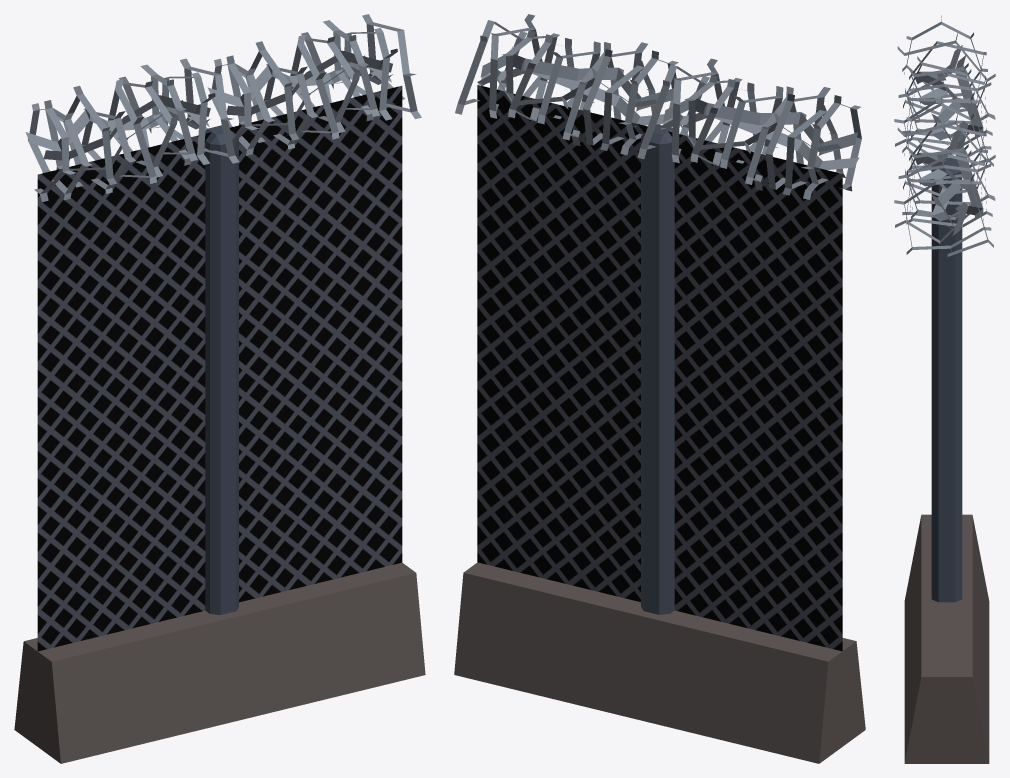
The model's file is fence_1.glb.
3 renders of one model, left to right at view 1: azimuth 30°, elevation 25°; view 2: azimuth 150°, elevation 25°; view 3: azimuth 270°, elevation 25°, orthographic. The views are drawn at different scales.
Visible parts, largest first — view 1: Plane.005; view 2: Plane.005; view 3: Plane.005.
Boxes of the visible parts, x1,y1,x2,y2 form: Plane.005: [14, 14, 425, 763]; Plane.005: [454, 14, 865, 763]; Plane.005: [894, 15, 995, 763].
Bounding box in the file's own units: 4.08 × 6.78 × 1.06.
4 materials, 1 textured.
